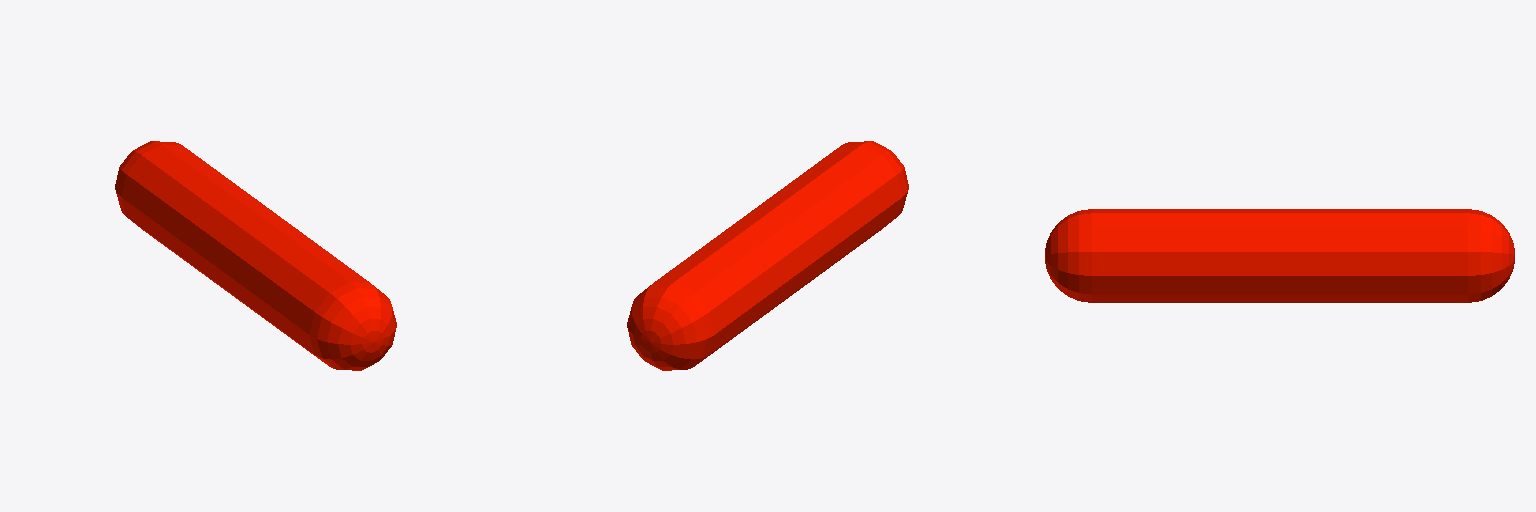
Rendered from shot2.obj.
The picture shows the model from 3 angles: view 1: azimuth 30°, elevation 25°; view 2: azimuth 150°, elevation 25°; view 3: azimuth 270°, elevation 25°; orthographic projection.
Visible parts, largest first — view 1: Capsule001; view 2: Capsule001; view 3: Capsule001.
Part boxes in pixels (x1,y1,x2,y2): Capsule001: (115, 141, 396, 370); Capsule001: (627, 141, 908, 370); Capsule001: (1045, 209, 1514, 302).
Size of the model in its own units: 60 by 60 by 300.